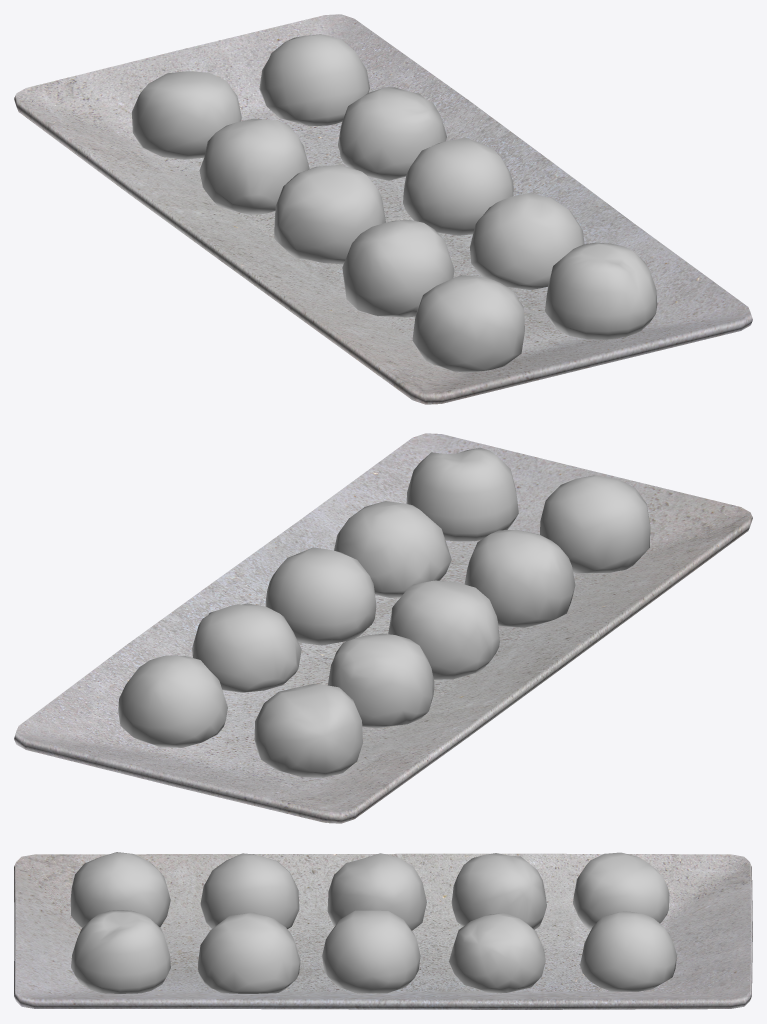
Rendered from Akashiyaki_sara02.fbx.
3 renders of one model, top to bottom at view 1: azimuth 30°, elevation 25°; view 2: azimuth 150°, elevation 25°; view 3: azimuth 270°, elevation 25°, orthographic. The views are drawn at different scales.
Parts seen in each view (by area): view 1: Akasiyaki_sara02; view 2: Akasiyaki_sara02; view 3: Akasiyaki_sara02.
Part boxes in pixels (box(x1,y1,x2,y2)): Akasiyaki_sara02: box(14, 14, 752, 404); Akasiyaki_sara02: box(14, 433, 752, 823); Akasiyaki_sara02: box(14, 852, 752, 1009).
Size of the model in its own units: 11.78 by 2.91 by 24.88.
